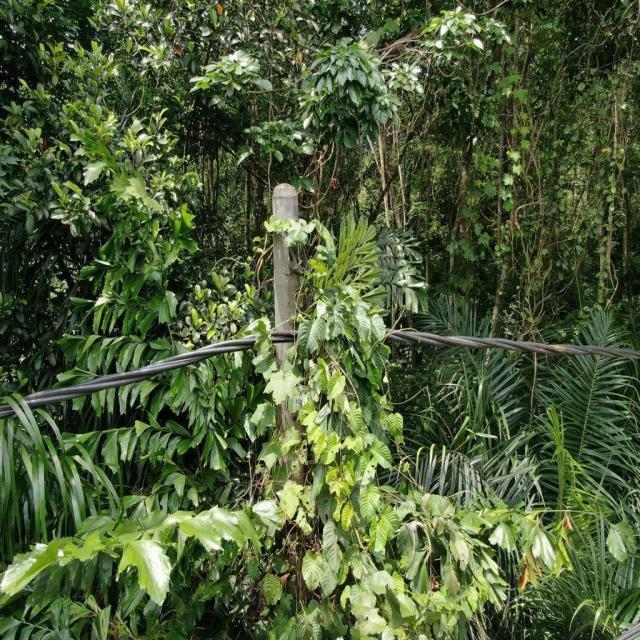critical vegetation: (231, 209, 395, 629)
